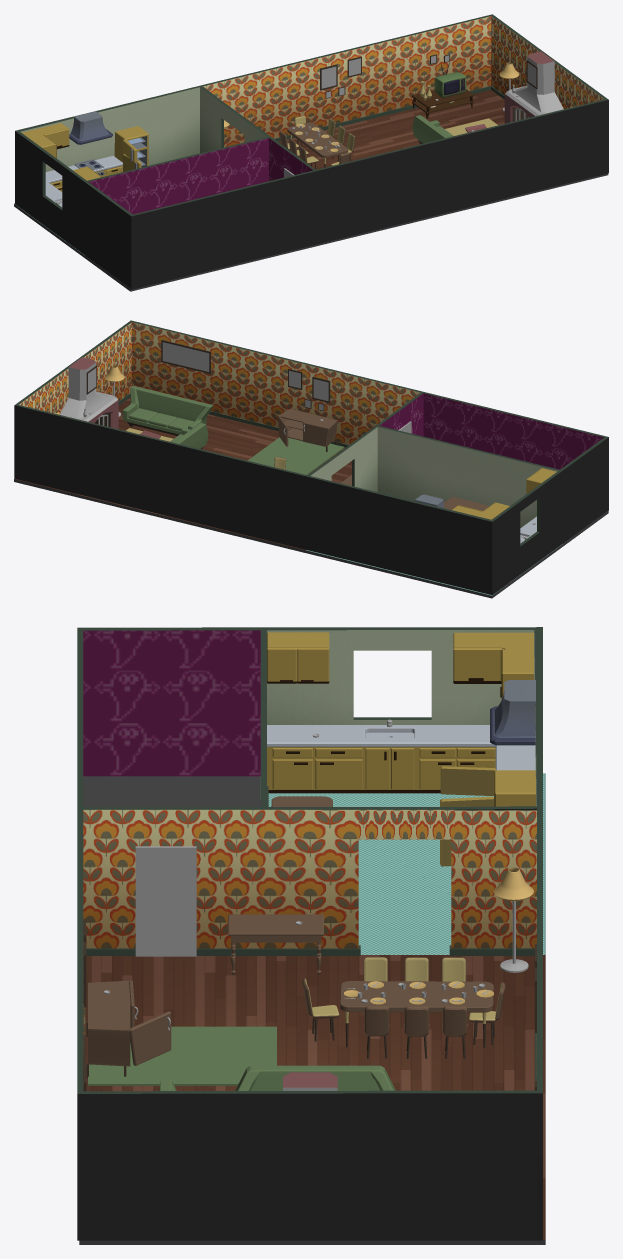
File: CompleteRoom_70s_v6.fbx
3 renders of one model, top to bottom at view 1: azimuth 30°, elevation 25°; view 2: azimuth 150°, elevation 25°; view 3: azimuth 270°, elevation 25°, orthographic. The views are drawn at different scales.
Parts seen in each view (by area): view 1: polySurface66, polySurface69, pCube296, pCube366, pCube298, pCube320, polySurface83, polySurface79, pCube319, pCube362, pCube305, pCube327; view 2: polySurface66, polySurface69, pCube306, pCube296, pCube317, pCube351, pCube315, pCube366, pCube305, pCube347, pCube349; view 3: polySurface66, polySurface69, polySurface83, pCube317, pCube366, pCube360, pCube298, pCube315, pCube352, pCube305, pCube320, pCube350 (+8 smaller).
Part boxes in pixels (x1,y1,x2,y2): polySurface66: [15, 14, 608, 289]; polySurface69: [14, 90, 608, 291]; pCube296: [504, 51, 563, 123]; pCube366: [22, 123, 101, 180]; pCube298: [287, 122, 348, 167]; pCube320: [69, 111, 112, 144]; polySurface83: [45, 156, 122, 207]; polySurface79: [412, 89, 473, 118]; pCube319: [114, 126, 148, 167]; pCube362: [434, 62, 466, 98]; pCube305: [412, 115, 449, 144]; pCube327: [320, 64, 337, 90]; polySurface66: [14, 320, 608, 595]; polySurface69: [14, 397, 608, 598]; pCube306: [122, 385, 213, 435]; pCube296: [60, 357, 118, 428]; pCube317: [248, 437, 344, 474]; pCube351: [161, 340, 210, 373]; pCube315: [278, 409, 337, 446]; pCube366: [452, 468, 556, 519]; pCube305: [174, 423, 208, 449]; pCube347: [303, 422, 329, 446]; pCube349: [312, 377, 330, 402]; polySurface66: [77, 627, 542, 1240]; polySurface69: [79, 773, 545, 1244]; polySurface83: [267, 725, 535, 793]; pCube317: [88, 1026, 276, 1085]; pCube366: [267, 632, 533, 699]; pCube360: [135, 846, 196, 956]; pCube298: [340, 981, 493, 1047]; pCube315: [88, 980, 130, 1066]; pCube352: [228, 914, 323, 974]; pCube305: [235, 1065, 395, 1090]; pCube320: [490, 680, 535, 745]; pCube350: [129, 1011, 171, 1065].
Bounding box in the file's own units: 180 × 27.92 × 76.41.
